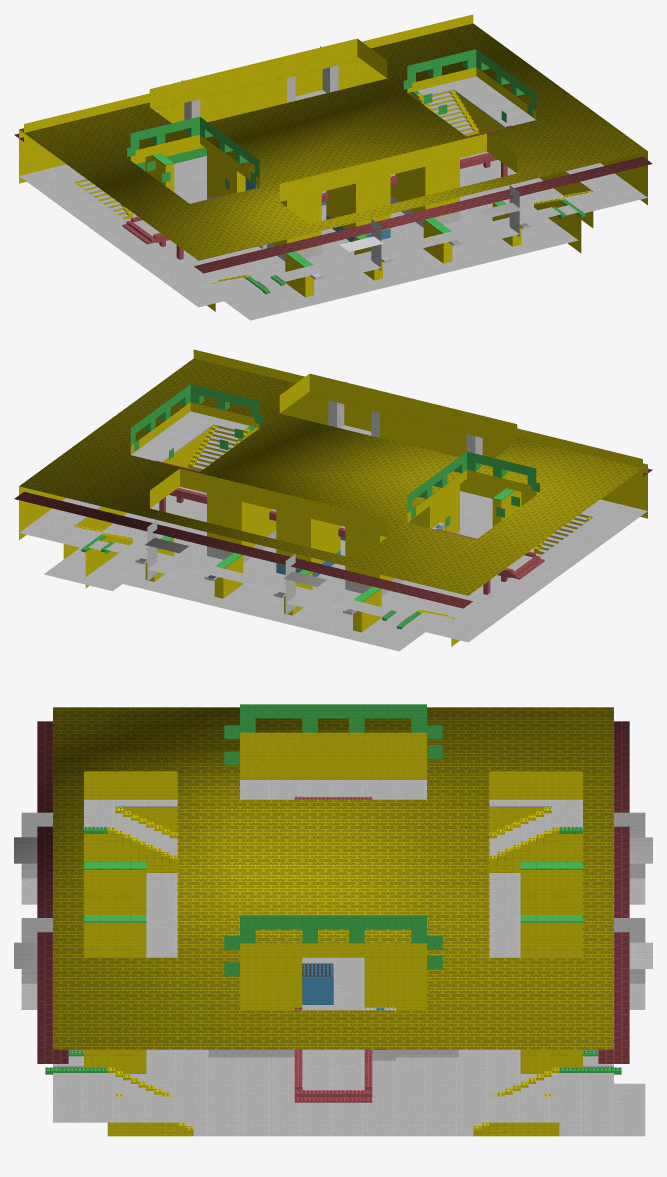
File: 2000 Bricks.glb
The picture shows the model from 3 angles, top to bottom: view 1: azimuth 30°, elevation 25°; view 2: azimuth 150°, elevation 25°; view 3: azimuth 270°, elevation 25°; orthographic projection. The views are drawn at different scales.
Visible parts, largest first — view 1: 2000 Bricks.001; view 2: 2000 Bricks.001; view 3: 2000 Bricks.001.
Part boxes in pixels (x1,y1,x2,y2): 2000 Bricks.001: (14,14,652,320); 2000 Bricks.001: (14,349,652,651); 2000 Bricks.001: (14,704,652,1136).
Bounding box in the file's own units: 52 × 12.25 × 41.
Materials: 21 (21 with a texture image).
